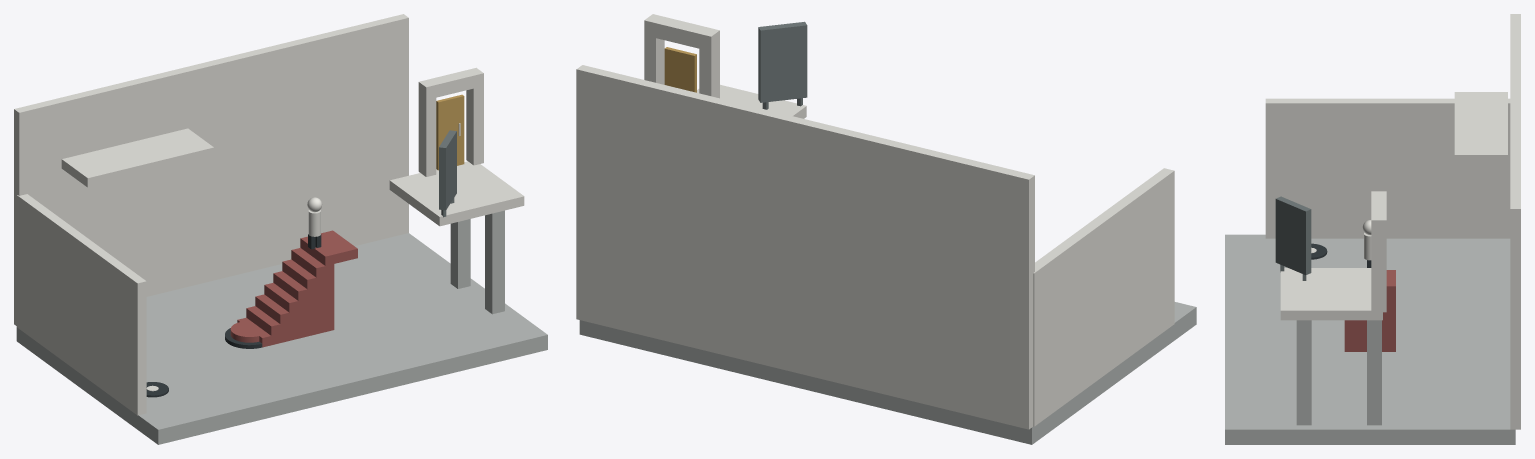
File: 02_aligned.glb
3 views of the same model, side by side, from view 1: azimuth 30°, elevation 25°; view 2: azimuth 150°, elevation 25°; view 3: azimuth 270°, elevation 25° (orthographic). The views are drawn at different scales.
Parts seen in each view (by area): view 1: RearWall, Base, LeftWall, RearShelf, FarPlatform, FarSupport, LeftPier, RightPier, Door, FarSupportRear, TransitionMask, Lintel (+9 smaller); view 2: RearWall, LeftWall, Base, TransitionMask, Lintel, LeftPier, Door, RightPier, FarPlatform; view 3: Base, LeftWall, FarPlatform, RearWall, RearShelf, TransitionMask, FarSupport, FarSupportRear, RightPier, Step_7, Lintel.
Boxes of the visible parts, x1,y1,x2,y2 form: RearWall: (14, 14, 408, 325); Base: (16, 233, 547, 444); LeftWall: (16, 194, 146, 415); RearShelf: (61, 128, 213, 187); FarPlatform: (389, 161, 524, 226); FarSupport: (485, 210, 504, 314); LeftPier: (418, 80, 436, 176); RightPier: (466, 67, 483, 165); Door: (436, 94, 464, 170); FarSupportRear: (450, 219, 470, 288); TransitionMask: (439, 130, 456, 210); Lintel: (418, 68, 483, 99); RearWall: (576, 65, 1034, 429); LeftWall: (1033, 168, 1174, 426); Base: (579, 302, 1196, 444); TransitionMask: (758, 21, 807, 102); Lintel: (644, 14, 719, 49); LeftPier: (699, 31, 719, 98); Door: (664, 47, 696, 92); RightPier: (644, 14, 664, 84); FarPlatform: (697, 84, 806, 118); Base: (1225, 234, 1515, 444); LeftWall: (1265, 98, 1510, 238); FarPlatform: (1280, 268, 1382, 320); RearWall: (1510, 14, 1520, 429); RearShelf: (1454, 92, 1507, 164); TransitionMask: (1275, 196, 1311, 275); FarSupport: (1296, 320, 1311, 425); FarSupportRear: (1367, 320, 1381, 425); RightPier: (1371, 215, 1386, 312); Step_7: (1344, 270, 1395, 351); Lintel: (1371, 191, 1386, 232).
Size of the model in its own units: 11.03 by 6.1 by 6.93.
